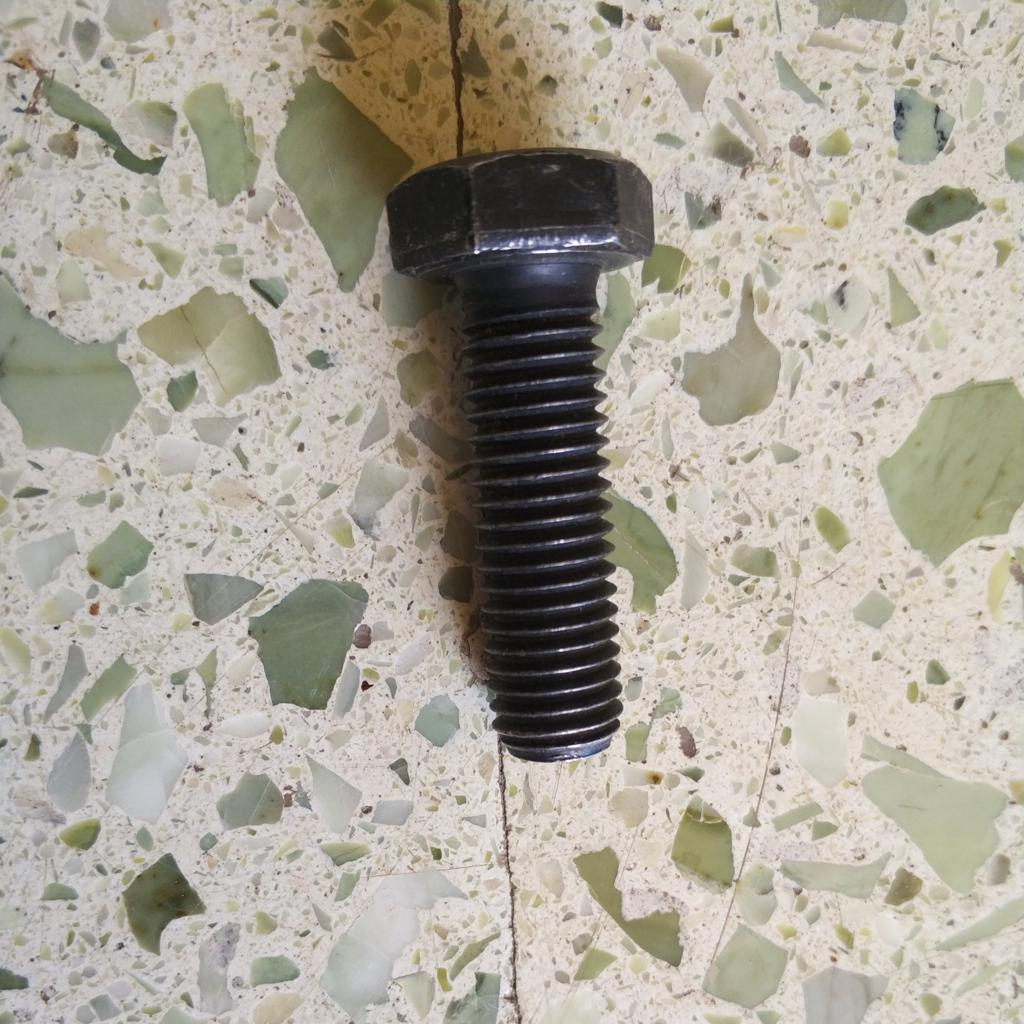screwtype2black: (381, 140, 656, 762)
